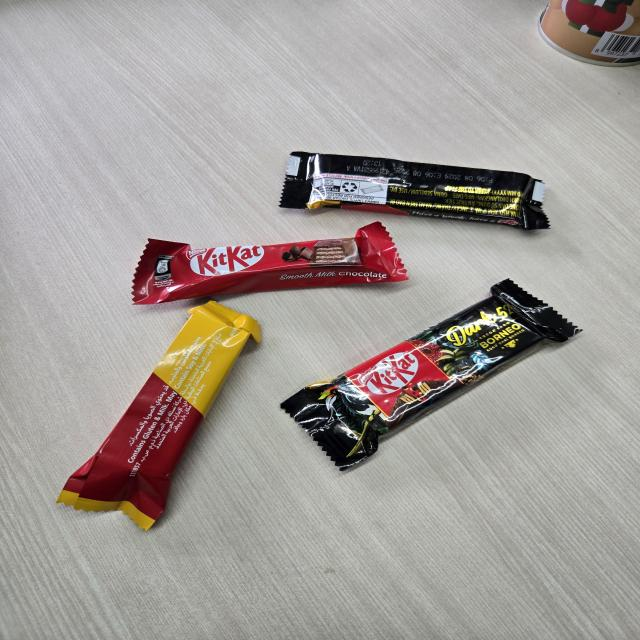chocolate-bar: (283, 275, 586, 478), (51, 297, 275, 539), (114, 219, 421, 309), (280, 142, 552, 236)
